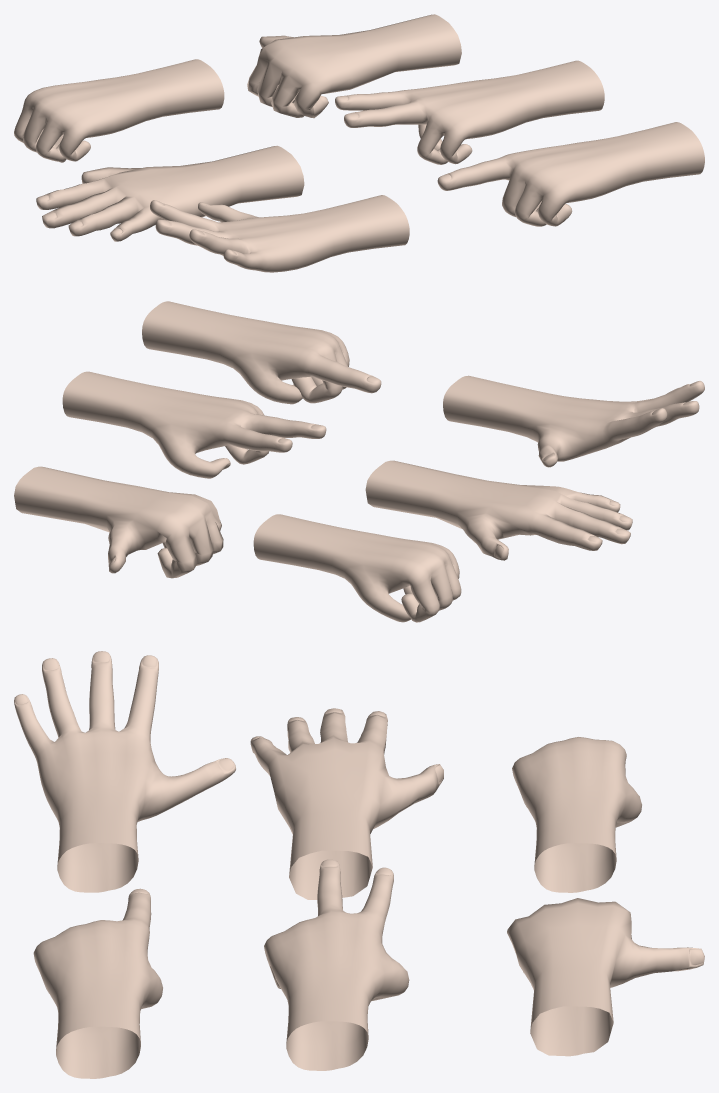
File: hands.fbx
3 renders of one model, top to bottom at view 1: azimuth 30°, elevation 25°; view 2: azimuth 150°, elevation 25°; view 3: azimuth 270°, elevation 25°, orthographic. The views are drawn at different scales.
Visible parts, largest first — view 1: Cube.001, Cube.002, Cube.005, Cube.003, Cube.006, Cube.004; view 2: Cube.005, Cube.001, Cube.002, Cube.003, Cube.004, Cube.006; view 3: Cube.006, Cube.005, Cube.001, Cube.003, Cube.002, Cube.004.
Boxes of the visible parts, x1,y1,x2,y2 form: Cube.001: [335, 60, 604, 164]; Cube.002: [437, 122, 704, 226]; Cube.005: [36, 145, 304, 241]; Cube.003: [247, 14, 461, 118]; Cube.006: [150, 195, 409, 272]; Cube.004: [14, 59, 224, 162]; Cube.005: [365, 460, 632, 560]; Cube.001: [62, 371, 326, 478]; Cube.002: [142, 301, 381, 404]; Cube.003: [14, 466, 223, 578]; Cube.004: [253, 514, 461, 622]; Cube.006: [443, 375, 704, 467]; Cube.006: [14, 651, 235, 892]; Cube.005: [250, 708, 443, 899]; Cube.001: [264, 859, 409, 1070]; Cube.003: [507, 898, 704, 1056]; Cube.002: [33, 888, 162, 1078]; Cube.004: [512, 737, 641, 892].
Bounding box in the file's own units: 58.18 × 10.64 × 48.9.
